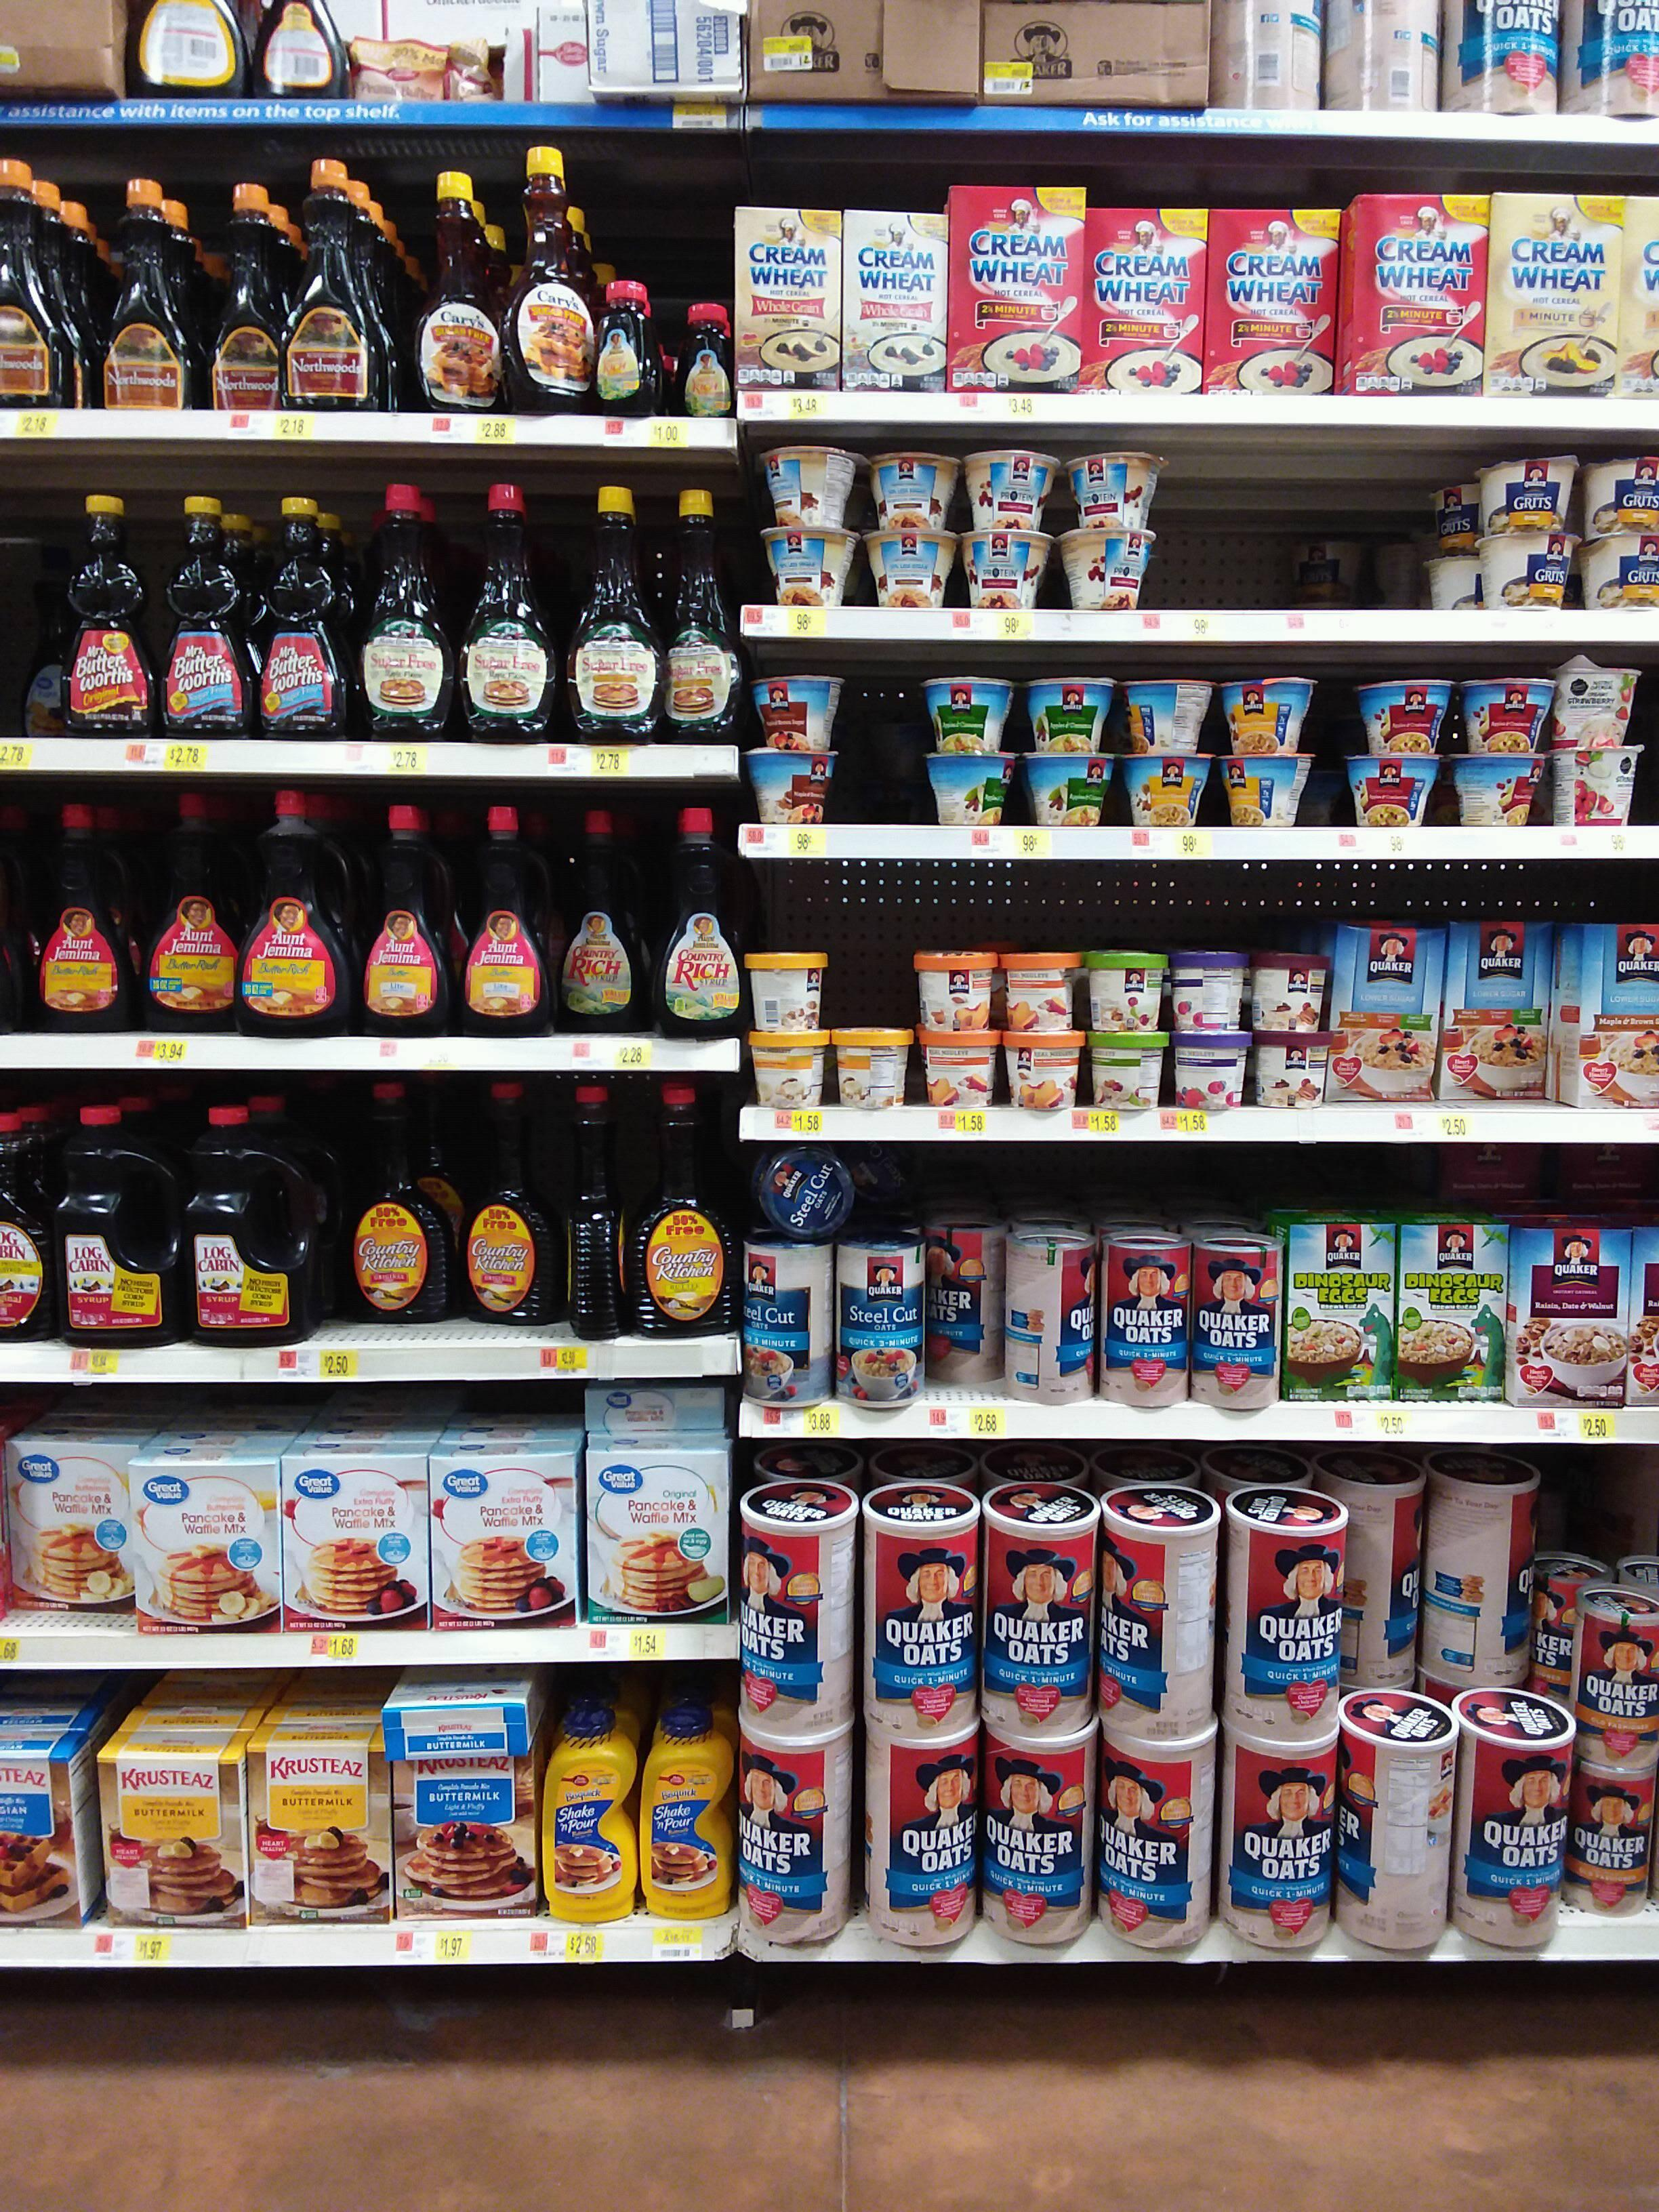misalignment: (549, 1085, 627, 1341), (357, 1695, 554, 1770), (755, 1143, 878, 1238), (575, 1385, 734, 1437), (446, 26, 507, 101)
